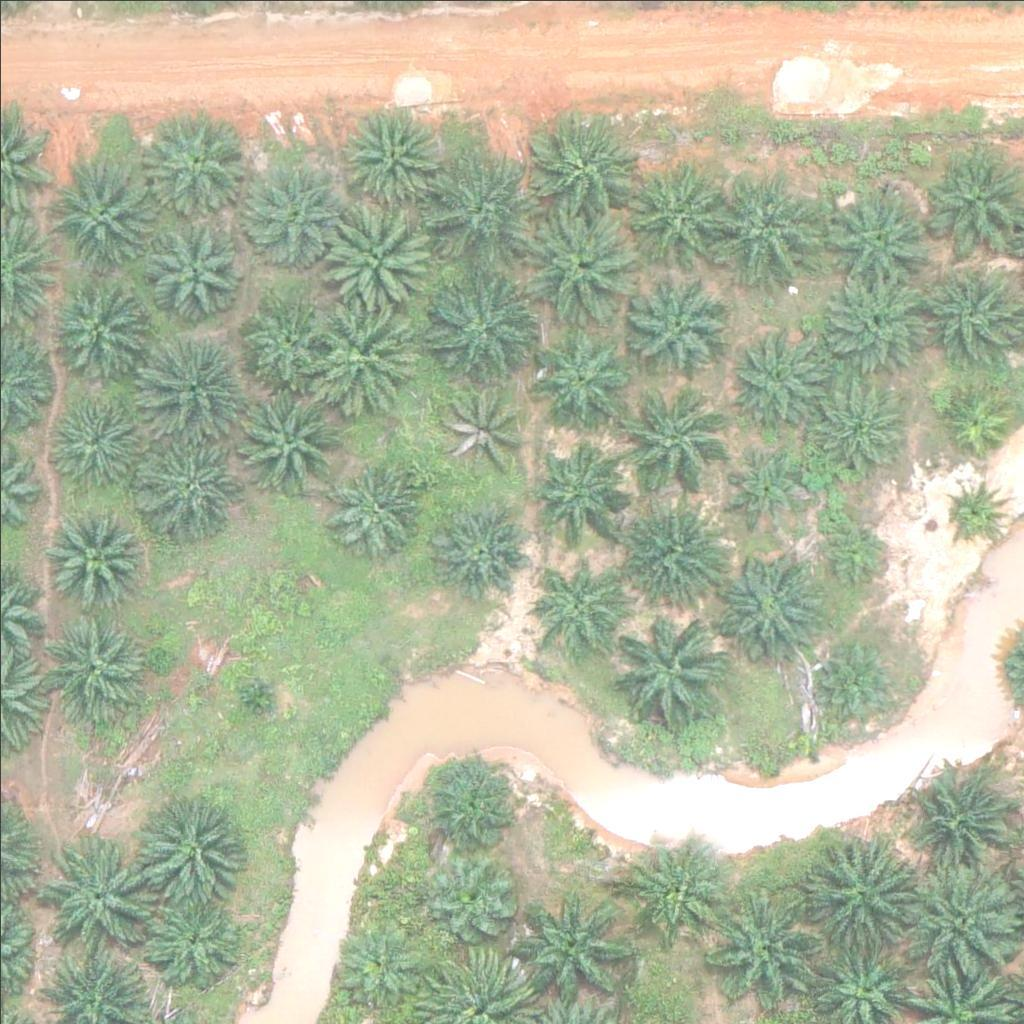Kelapa_Sawit: (135, 107, 248, 221), (48, 155, 161, 269), (808, 835, 921, 949), (137, 787, 250, 900), (136, 329, 249, 442), (524, 108, 637, 221), (611, 618, 724, 731), (717, 545, 830, 658), (819, 267, 932, 380), (822, 179, 935, 292), (613, 386, 725, 500), (715, 169, 827, 283), (46, 839, 158, 952), (232, 385, 344, 498), (309, 302, 421, 415), (322, 204, 434, 317), (420, 149, 532, 262), (424, 270, 536, 383), (520, 894, 632, 1007), (526, 208, 638, 321), (625, 151, 737, 264), (622, 490, 734, 603), (709, 894, 821, 1007), (901, 861, 1013, 974), (143, 889, 243, 990), (143, 211, 243, 312), (242, 167, 342, 268), (328, 456, 428, 557), (532, 436, 632, 537), (630, 274, 730, 375), (730, 323, 830, 424), (922, 257, 1022, 358), (43, 612, 143, 712), (42, 503, 142, 603), (42, 387, 142, 487), (46, 271, 146, 371), (140, 427, 240, 527), (343, 105, 443, 205), (422, 755, 522, 855), (431, 502, 531, 602), (532, 333, 632, 433), (625, 834, 725, 934), (915, 769, 1015, 869), (807, 376, 907, 476), (244, 296, 332, 384), (430, 860, 518, 948), (719, 442, 807, 530), (814, 634, 902, 722), (333, 925, 421, 1013), (435, 383, 522, 471), (533, 553, 620, 641), (815, 516, 890, 591), (939, 378, 1014, 453), (942, 477, 1005, 540), (235, 674, 285, 725)
